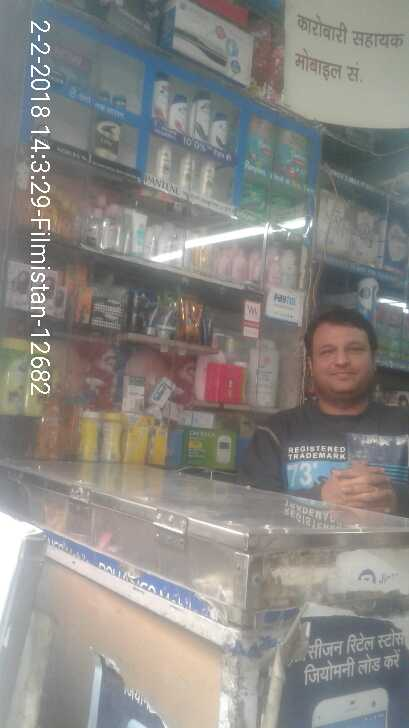vicks: (33, 41, 124, 113)
